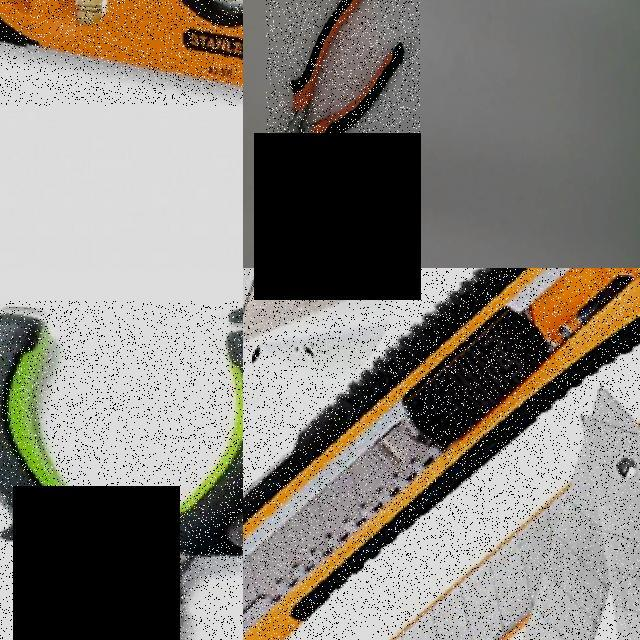estilete: (244, 269, 639, 639)
